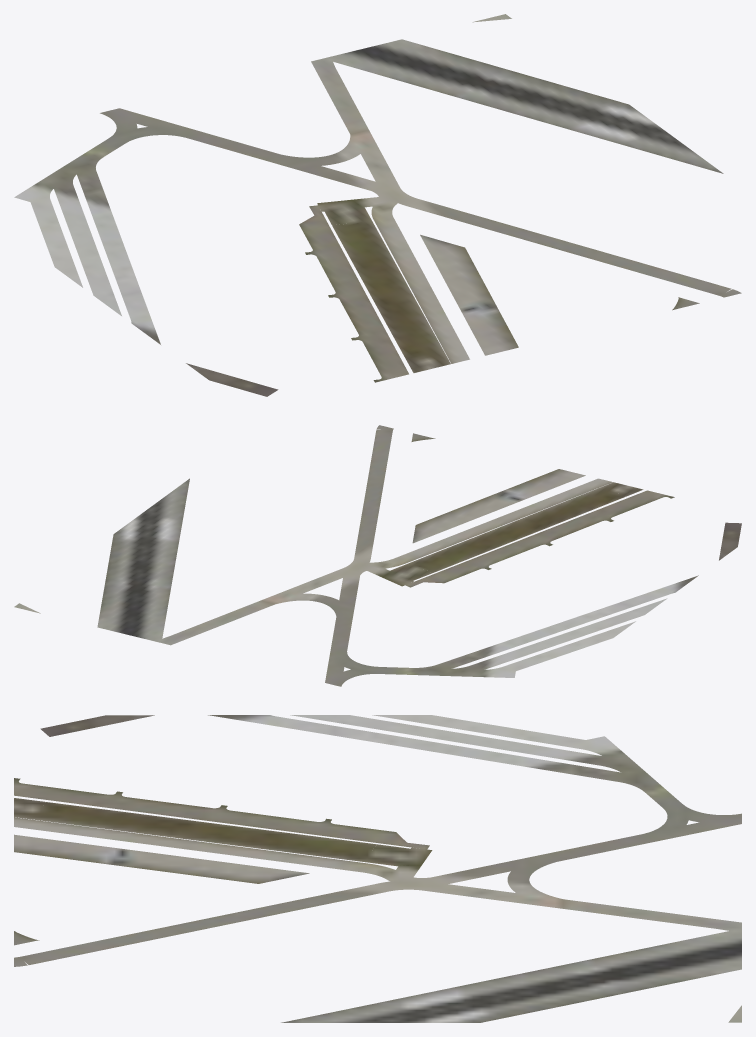
File: LSZH_0_-2.glb
The picture shows the model from 3 angles, top to bottom: view 1: azimuth 30°, elevation 25°; view 2: azimuth 150°, elevation 25°; view 3: azimuth 270°, elevation 25°; orthographic projection. The views are drawn at different scales.
Visible parts, largest first — view 1: pavement_LSZH_pavement_5367_2512; view 2: pavement_LSZH_pavement_5367_2512; view 3: pavement_LSZH_pavement_5367_2512.
Part boxes in pixels (x1,y1,x2,y2): pavement_LSZH_pavement_5367_2512: (14, 14, 741, 396); pavement_LSZH_pavement_5367_2512: (14, 425, 741, 686); pavement_LSZH_pavement_5367_2512: (14, 715, 741, 1022).
Bounding box in the file's own units: 500 × 0.0919 × 500.
Materials: 1 (1 with a texture image).
